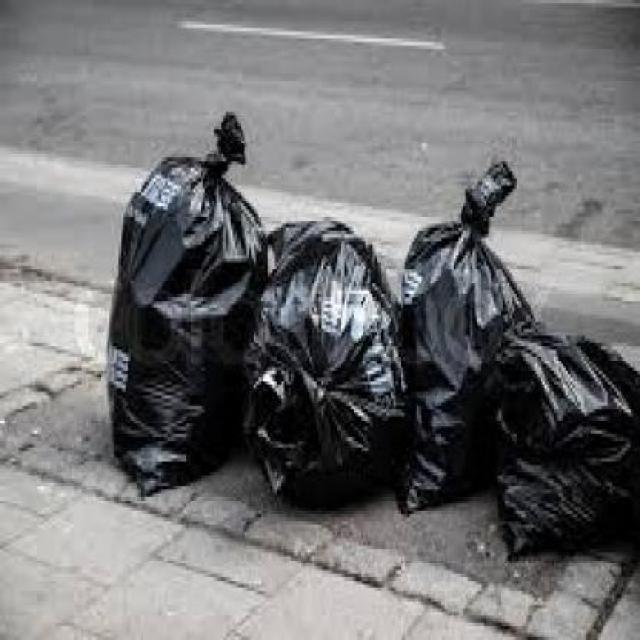garbage: (100, 132, 638, 534)
